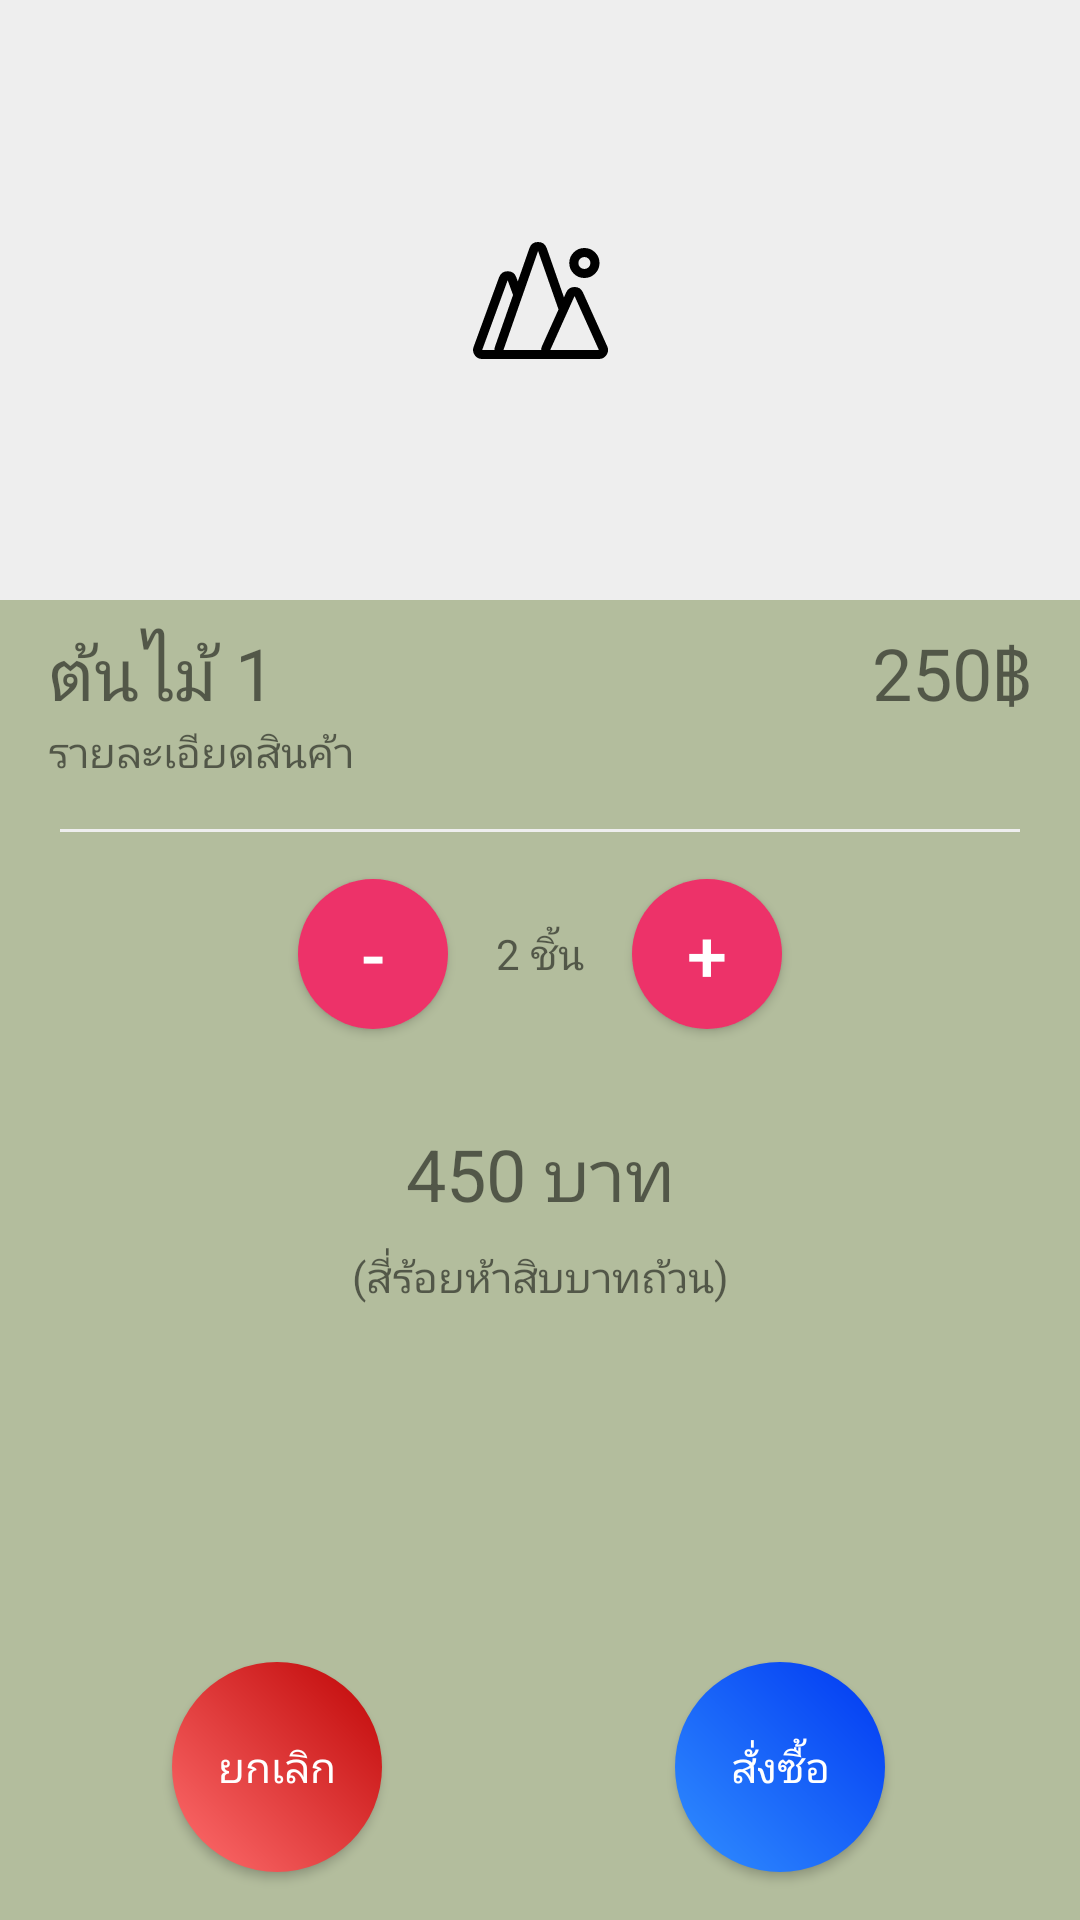

Screen size 1080×1920. Icon name, then its box in pixels as (left=x1, top=y1, right=x2, bottom=y2):
mountains: (left=473, top=242, right=608, bottom=359)
